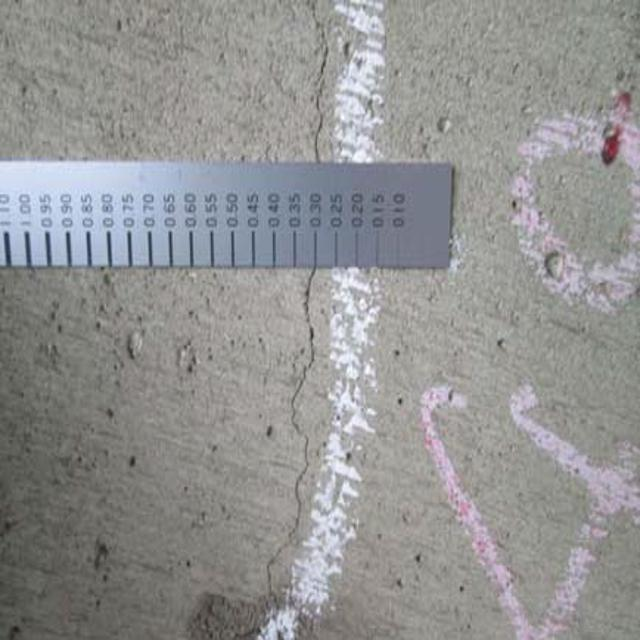crack: (233, 267, 337, 637), (294, 11, 334, 170)
